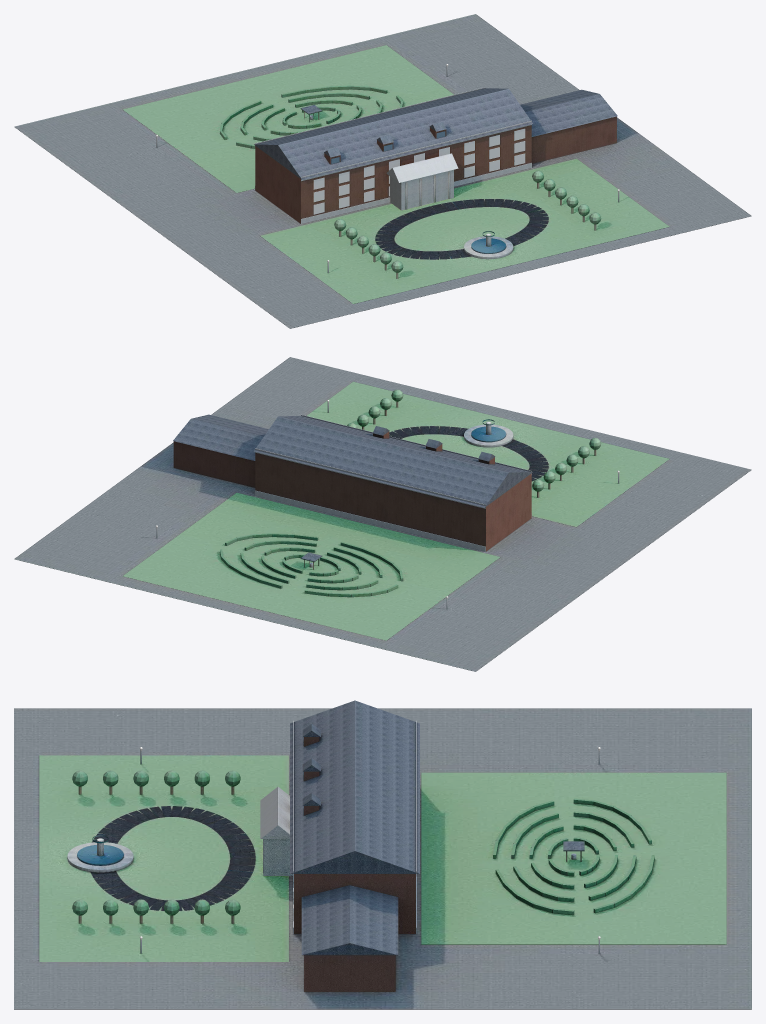
File: butler_academy.glb
3 renders of one model, top to bottom at view 1: azimuth 30°, elevation 25°; view 2: azimuth 150°, elevation 25°; view 3: azimuth 270°, elevation 25°, orthographic. The views are drawn at different scales.
Visible parts, largest first — view 1: site_ground, props_forecourt, walls_ext, props_garden, props_wing; view 2: site_ground, props_garden, walls_ext, props_forecourt, props_wing; view 3: site_ground, props_garden, props_forecourt, walls_ext, props_wing.
Part boxes in pixels (x1=…): site_ground: x1=14, y1=14, x2=751, y2=328; props_forecourt: x1=260, y1=158, x2=669, y2=303; walls_ext: x1=254, y1=87, x2=532, y2=223; props_garden: x1=123, y1=45, x2=453, y2=192; props_wing: x1=520, y1=89, x2=617, y2=163; site_ground: x1=14, y1=357, x2=751, y2=671; props_garden: x1=123, y1=492, x2=500, y2=640; walls_ext: x1=254, y1=414, x2=532, y2=551; props_forecourt: x1=307, y1=381, x2=669, y2=527; props_wing: x1=173, y1=414, x2=268, y2=487; site_ground: x1=14, y1=708, x2=751, y2=1009; props_garden: x1=421, y1=772, x2=726, y2=944; props_forecourt: x1=39, y1=755, x2=288, y2=961; walls_ext: x1=260, y1=700, x2=419, y2=933; props_wing: x1=301, y1=885, x2=398, y2=991.
Bounding box in the file's own units: 140 × 18.8 × 145.
6 materials, 6 textured.
